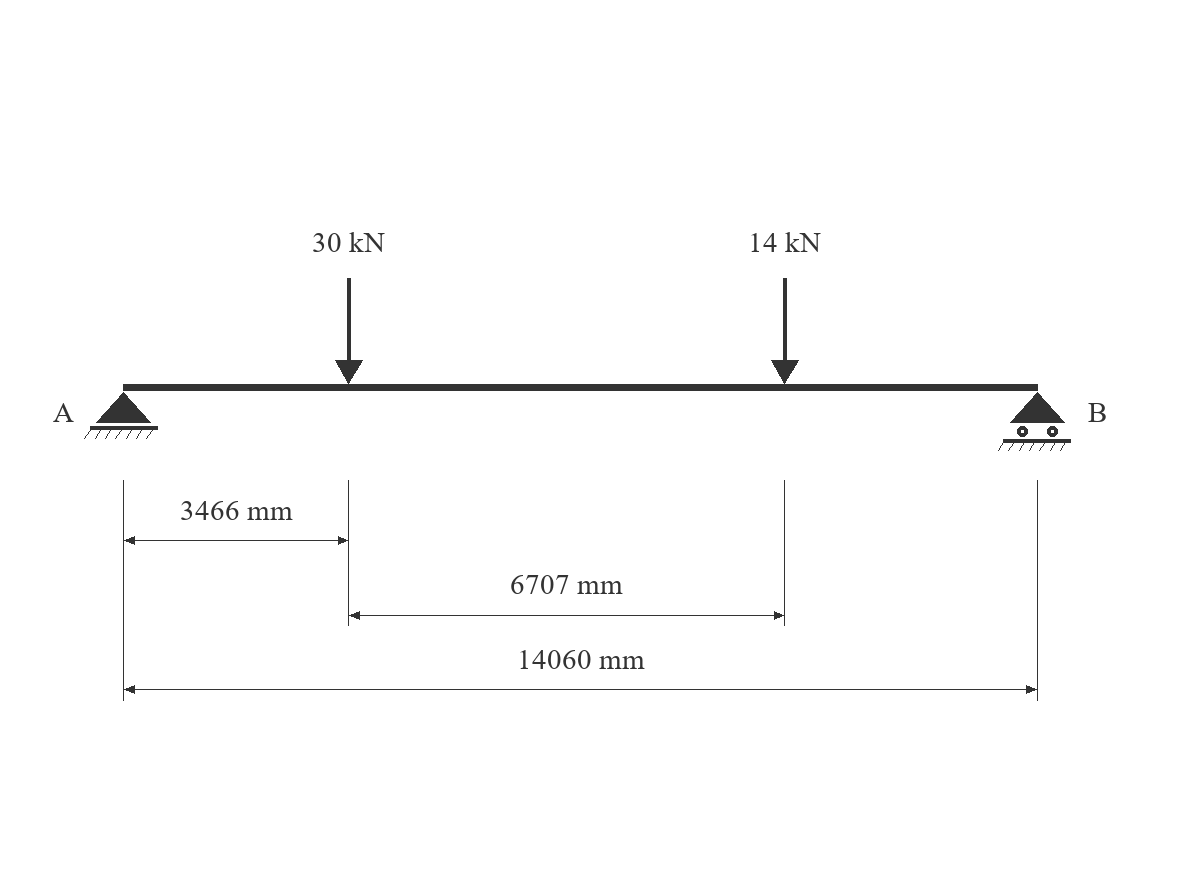pin_support: (84, 392, 158, 439)
point_load: (335, 278, 363, 384), (771, 278, 799, 384)
roller_support: (998, 392, 1071, 451)
